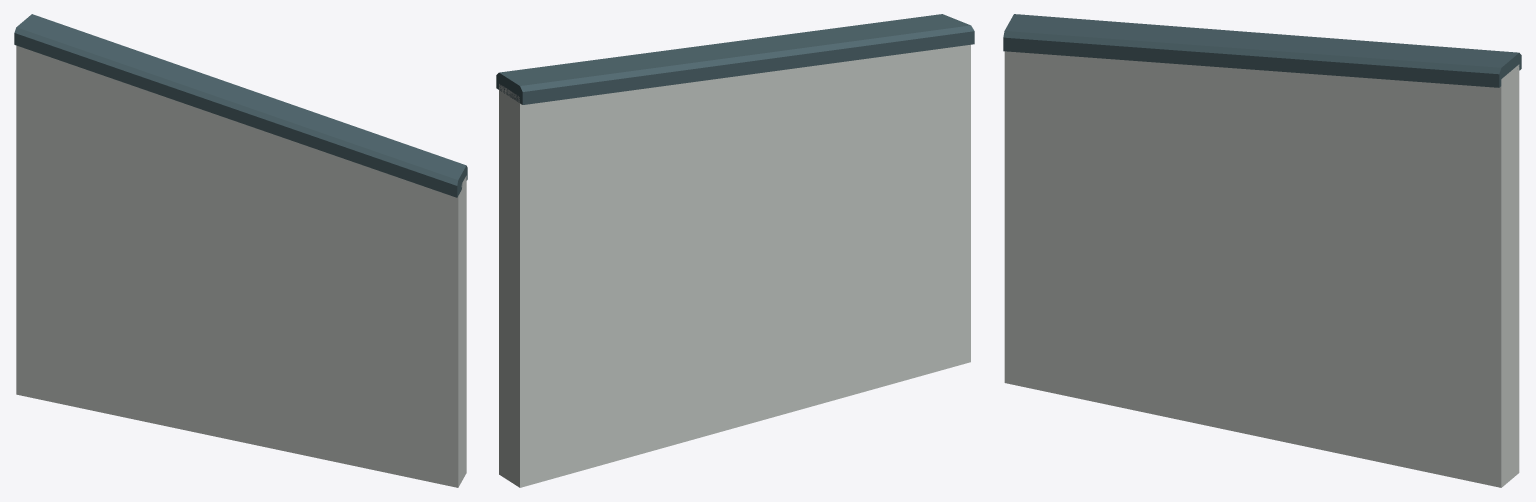
The model's file is halfwall_26_port_rise_1_miter_10000_-2361_8944_-4472.glb.
3 views of the same model, side by side, from view 1: azimuth 90°, elevation 25°; view 2: azimuth 150°, elevation 25°; view 3: azimuth 270°, elevation 25° (orthographic). The views are drawn at different scales.
Parts seen in each view (by area): view 1: Seamless solid halfwall.080, Seamless top cap.080; view 2: Seamless solid halfwall.080, Seamless top cap.080; view 3: Seamless solid halfwall.080, Seamless top cap.080.
Boxes of the visible parts, box(x1,y1,x2,y2) form: Seamless solid halfwall.080: box(16, 45, 466, 487); Seamless top cap.080: box(14, 14, 467, 197); Seamless solid halfwall.080: box(499, 44, 970, 487); Seamless top cap.080: box(496, 14, 974, 104); Seamless solid halfwall.080: box(1004, 51, 1519, 487); Seamless top cap.080: box(1003, 14, 1521, 87).
Size of the model in its own units: 0.5947 by 0.925 by 1.03.
